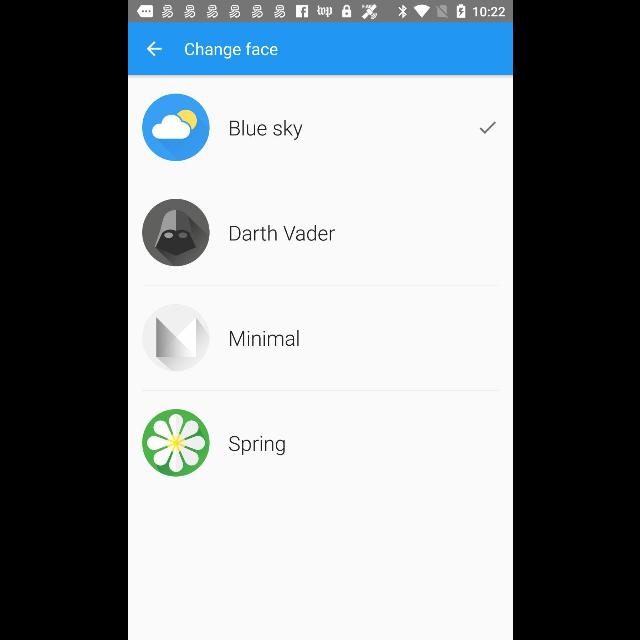icon: (145, 41, 161, 57), (478, 122, 496, 134)
image: (141, 409, 209, 477), (141, 304, 209, 372), (141, 199, 209, 267), (142, 94, 208, 162)
text: (230, 225, 334, 241), (185, 42, 278, 58), (230, 120, 302, 140), (228, 436, 284, 456), (230, 330, 298, 346)
toolbar: (128, 23, 512, 75)
uppertaskbar: (128, 1, 512, 23)
